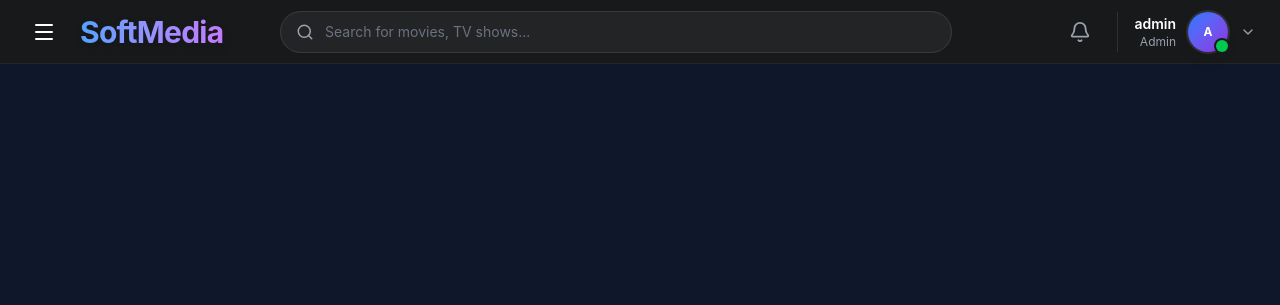
Test case: TopBar › user menu: dead items removed, "View Profile" links to /account, Sign Out remains
Click the button with aria-label "User menu": (1195, 32) [1134, 12, 1256, 52]
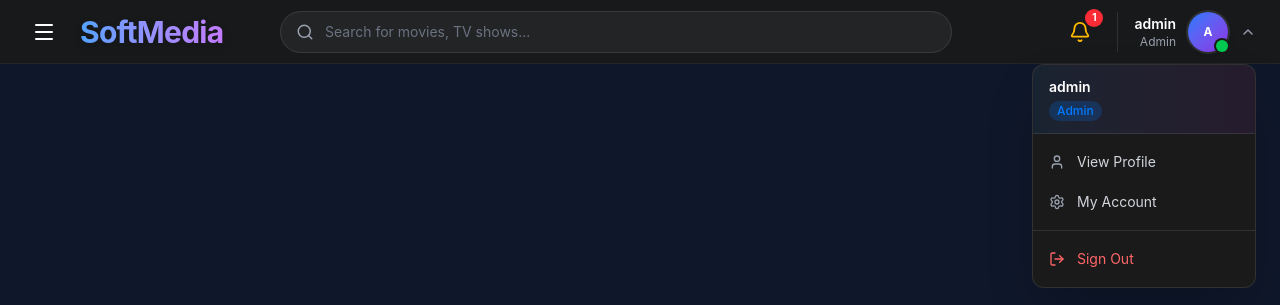
Result: the text "Sign Out" is shown at [1077, 248, 1134, 268]
